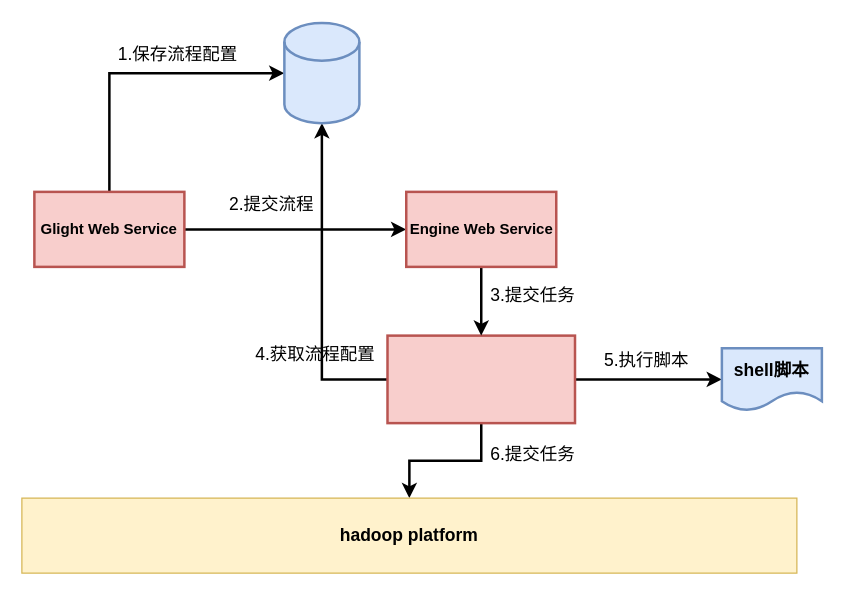
Some shapes in this 845 by 595 pixel diagram are drawn without their labels. Each missing label, with the box of its shape:
Glight Compute Engine: (386, 334, 576, 424)
mysql: (282, 21, 360, 124)
